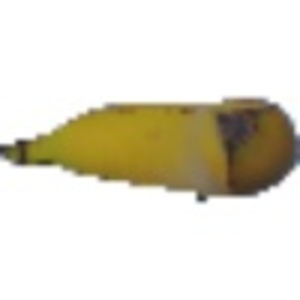banana: (6, 89, 293, 208)
